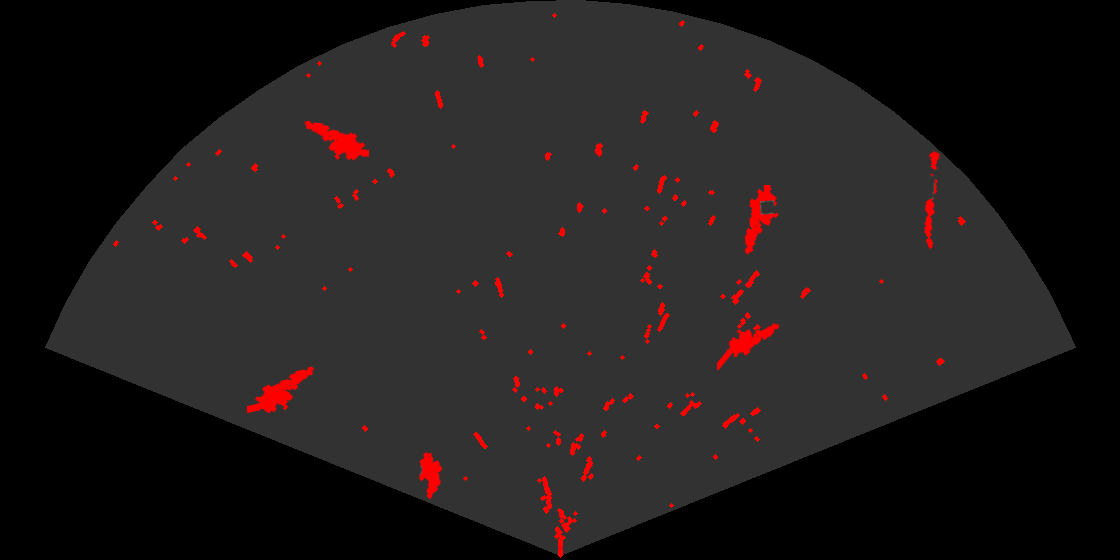AUV: (418, 450, 444, 501)
chain: (922, 149, 941, 250)
frogman: (247, 365, 316, 415), (717, 322, 781, 370), (303, 119, 369, 162), (743, 185, 780, 256)
